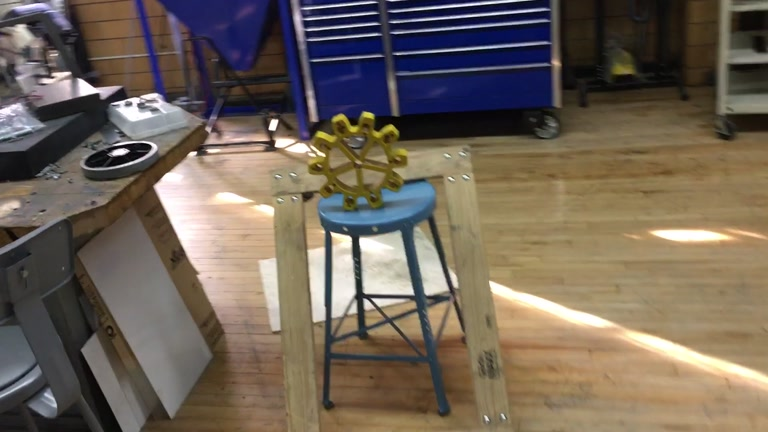gear: (306, 111, 410, 212)
